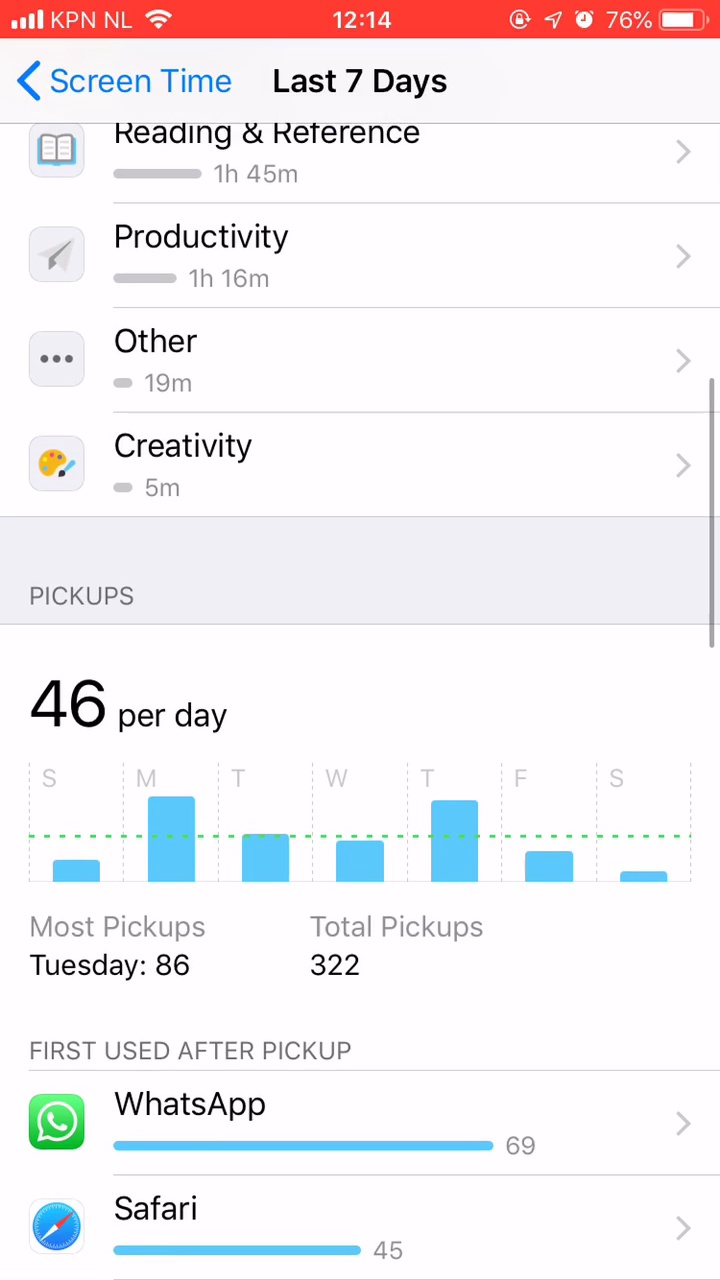pick_app: (25, 1080, 590, 1167), (26, 1188, 446, 1266)
pick_over: (21, 905, 540, 996)
week: (252, 60, 466, 109)
